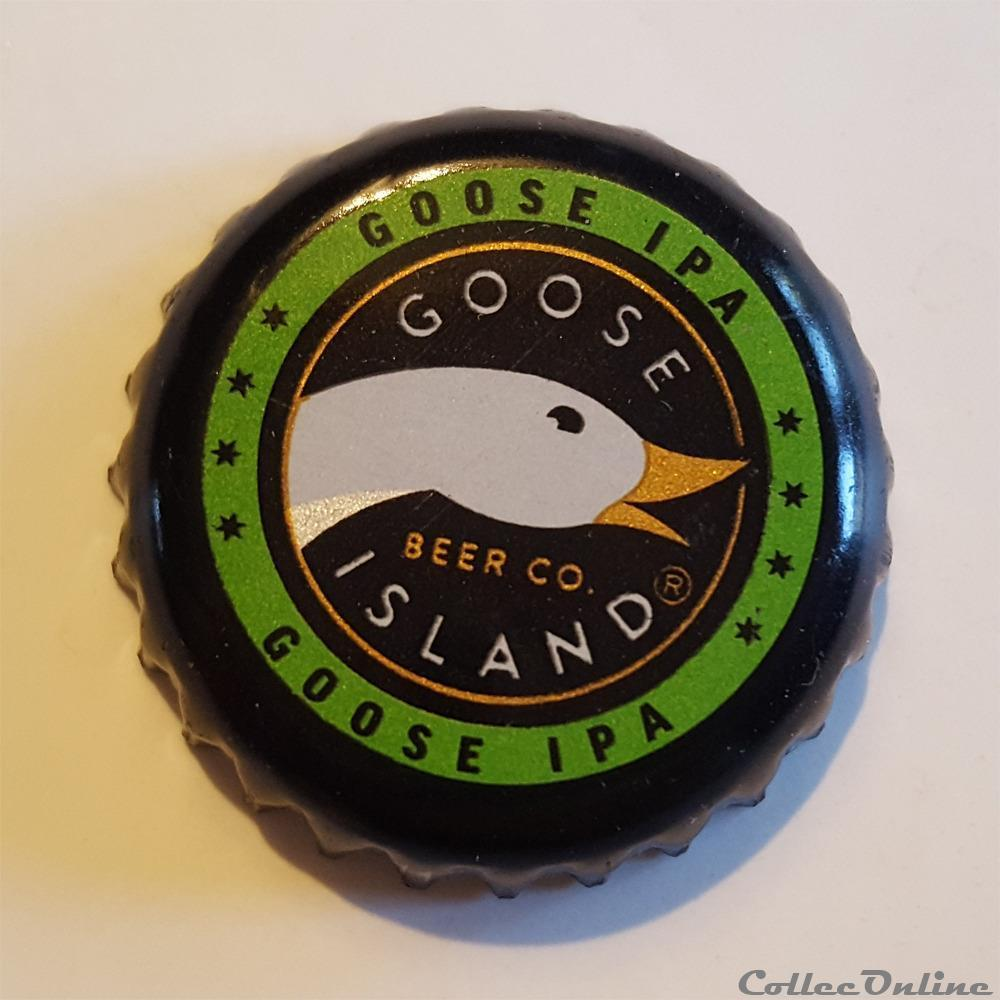metal: (112, 110, 893, 894)
